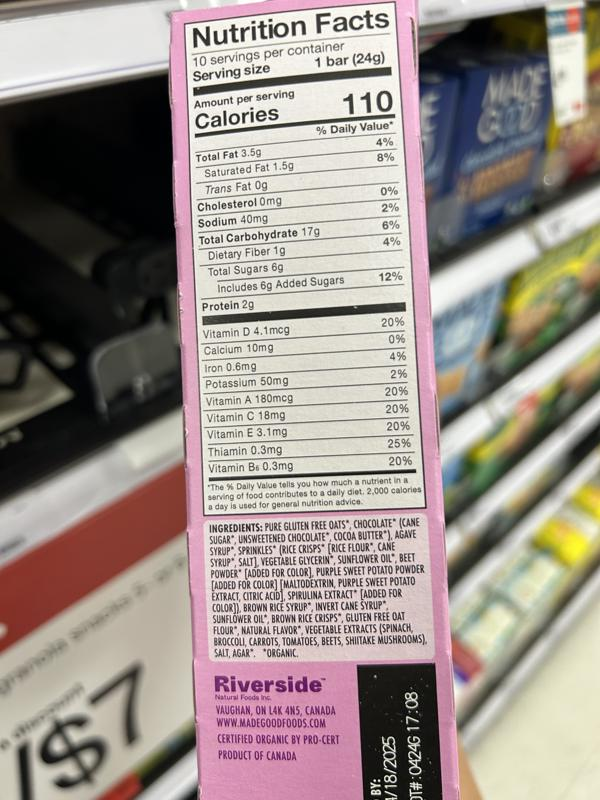ingredients: (205, 516, 430, 661)
